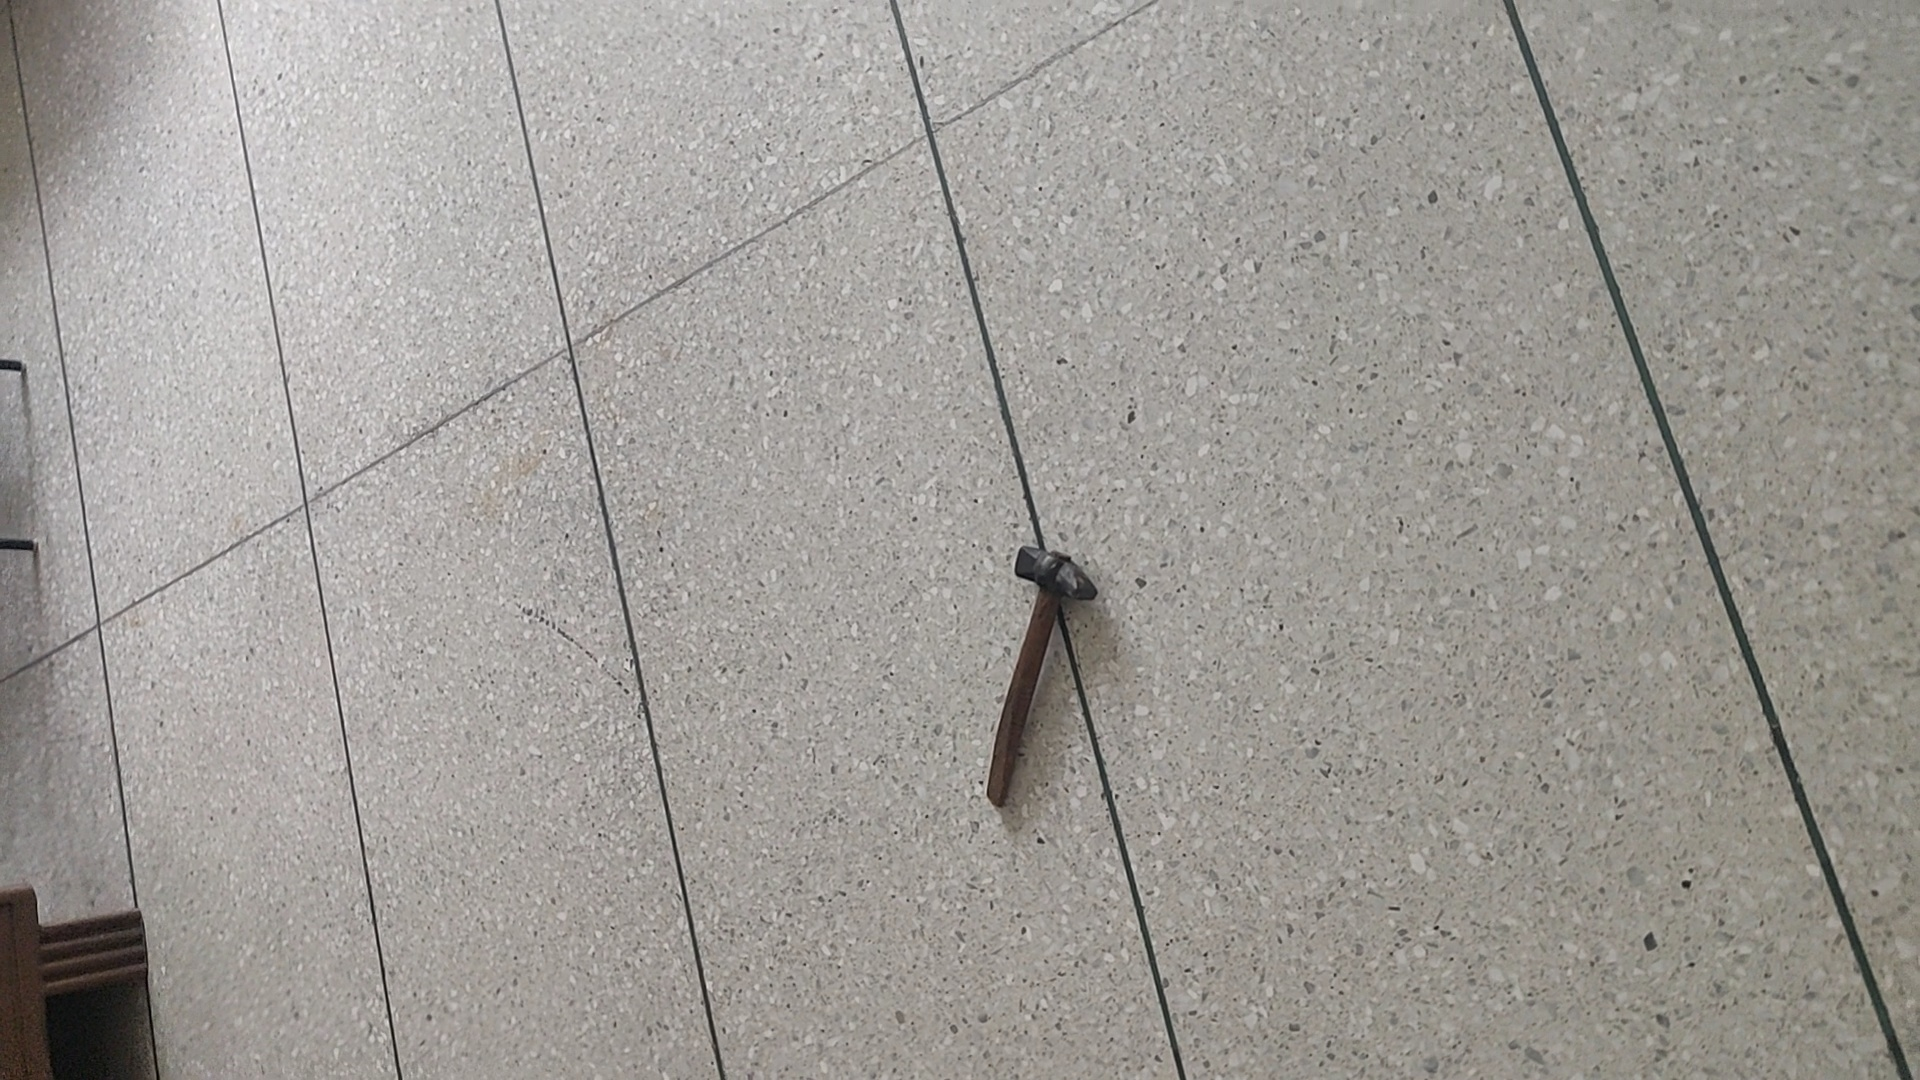hammer: (981, 545, 1098, 808)
